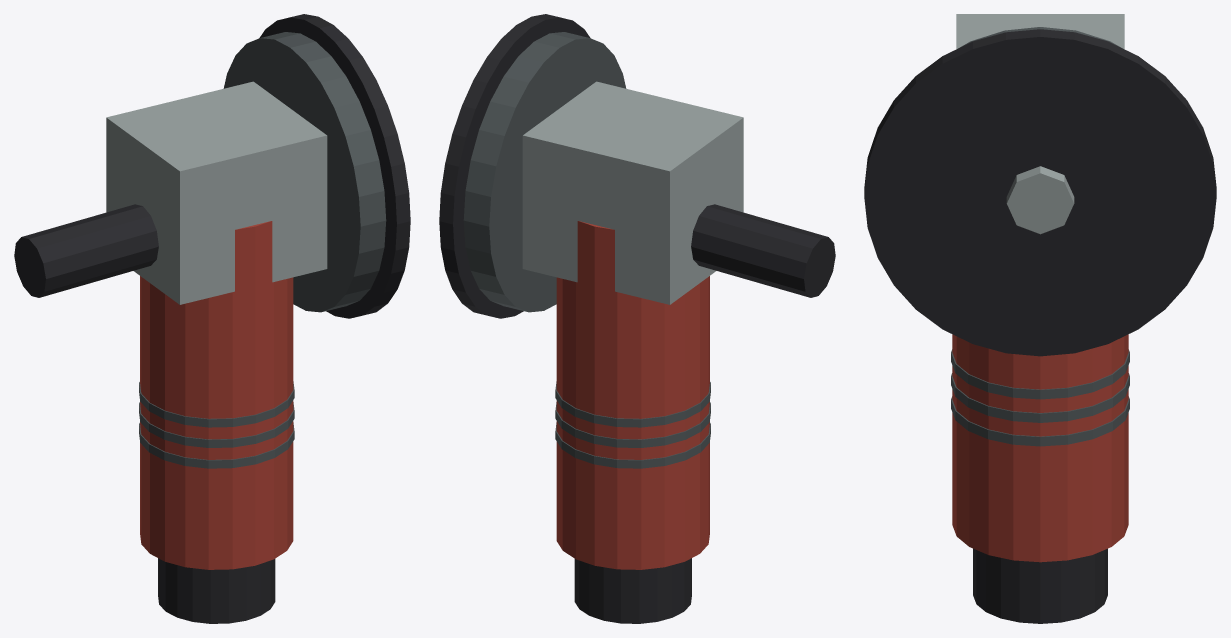
File: TOOL_Grinder.glb
3 views of the same model, side by side, from view 1: azimuth 30°, elevation 25°; view 2: azimuth 150°, elevation 25°; view 3: azimuth 270°, elevation 25° (orthographic). The views are drawn at different scales.
Visible parts, largest first — view 1: Motor, Gearcase, BackingDisc, Abrasive, SideGrip, Grip, VentBands; view 2: Motor, Gearcase, BackingDisc, Abrasive, SideGrip, Grip, VentBands; view 3: Abrasive, Motor, Grip, VentBands, Gearcase, SpindleNut.
Boxes of the visible parts, bbox=[...] form: Motor: bbox=[140, 221, 293, 569]; Gearcase: bbox=[106, 81, 327, 304]; BackingDisc: bbox=[223, 32, 386, 312]; Abrasive: bbox=[259, 14, 410, 318]; SideGrip: bbox=[14, 204, 158, 297]; Grip: bbox=[158, 558, 275, 623]; VentBands: bbox=[139, 381, 294, 468]; Motor: bbox=[556, 221, 709, 569]; Gearcase: bbox=[522, 81, 743, 304]; BackingDisc: bbox=[463, 32, 626, 312]; Abrasive: bbox=[439, 14, 590, 318]; SideGrip: bbox=[691, 204, 835, 297]; Grip: bbox=[574, 558, 691, 623]; VentBands: bbox=[555, 381, 710, 468]; Abrasive: bbox=[864, 29, 1216, 356]; Motor: bbox=[952, 334, 1128, 562]; Grip: bbox=[973, 548, 1107, 623]; VentBands: bbox=[951, 349, 1129, 446]; Gearcase: bbox=[956, 14, 1124, 49]; SpindleNut: bbox=[1006, 166, 1074, 234].
Bounding box in the file's own units: 0.1616 × 0.2655 × 0.136.
